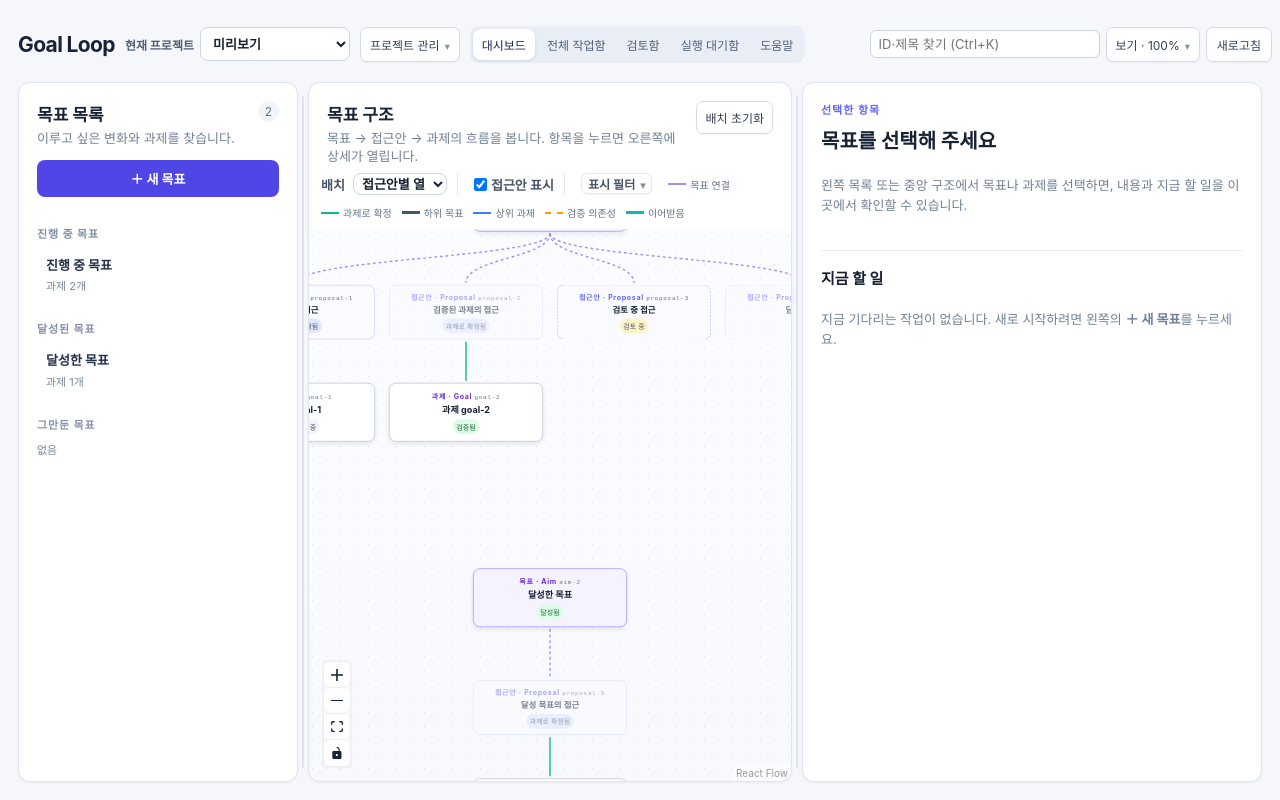
graph controls in the workspace › hides finished items with a display filter and can show them all again
Click the heading "표시 필터" at (617, 184), box [581,173,652,194]
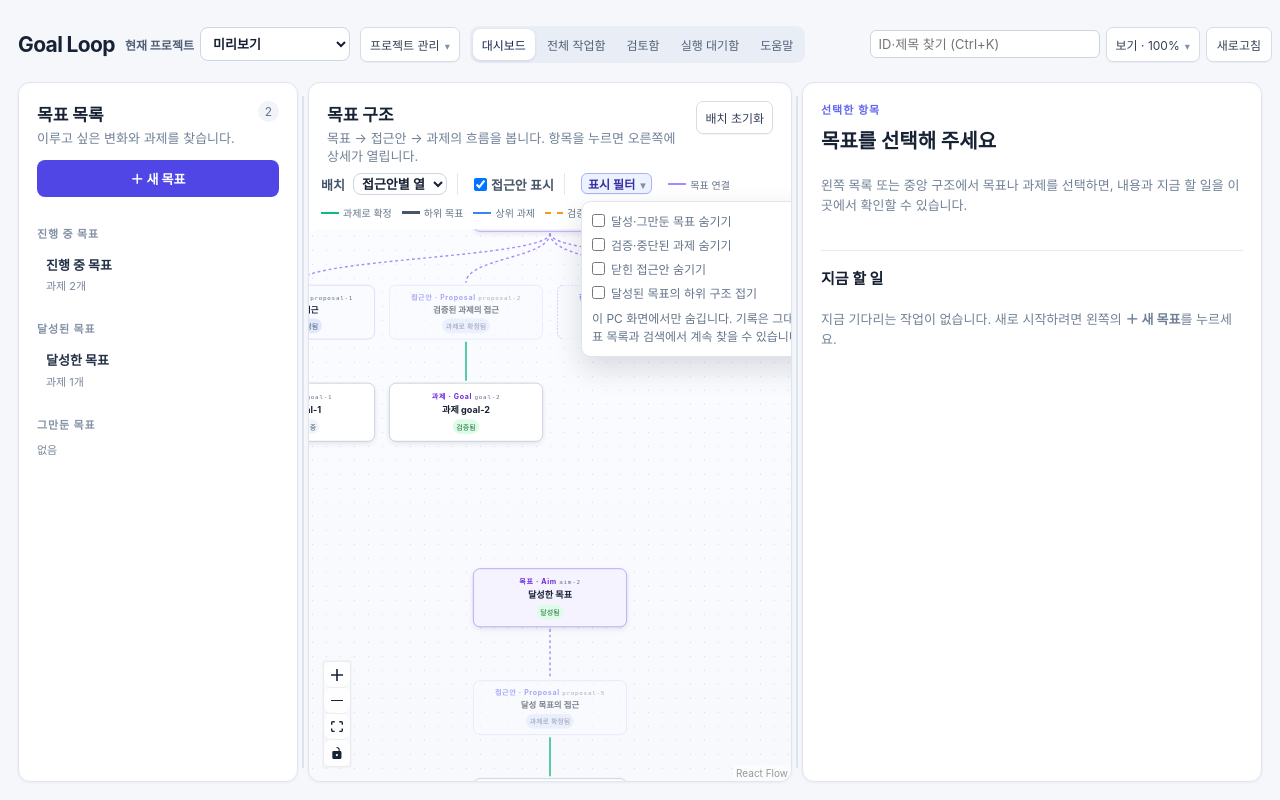
Click the checkbox labelled "달성·그만둔 목표 숨기기" at (598, 221), box [592,214,605,227]
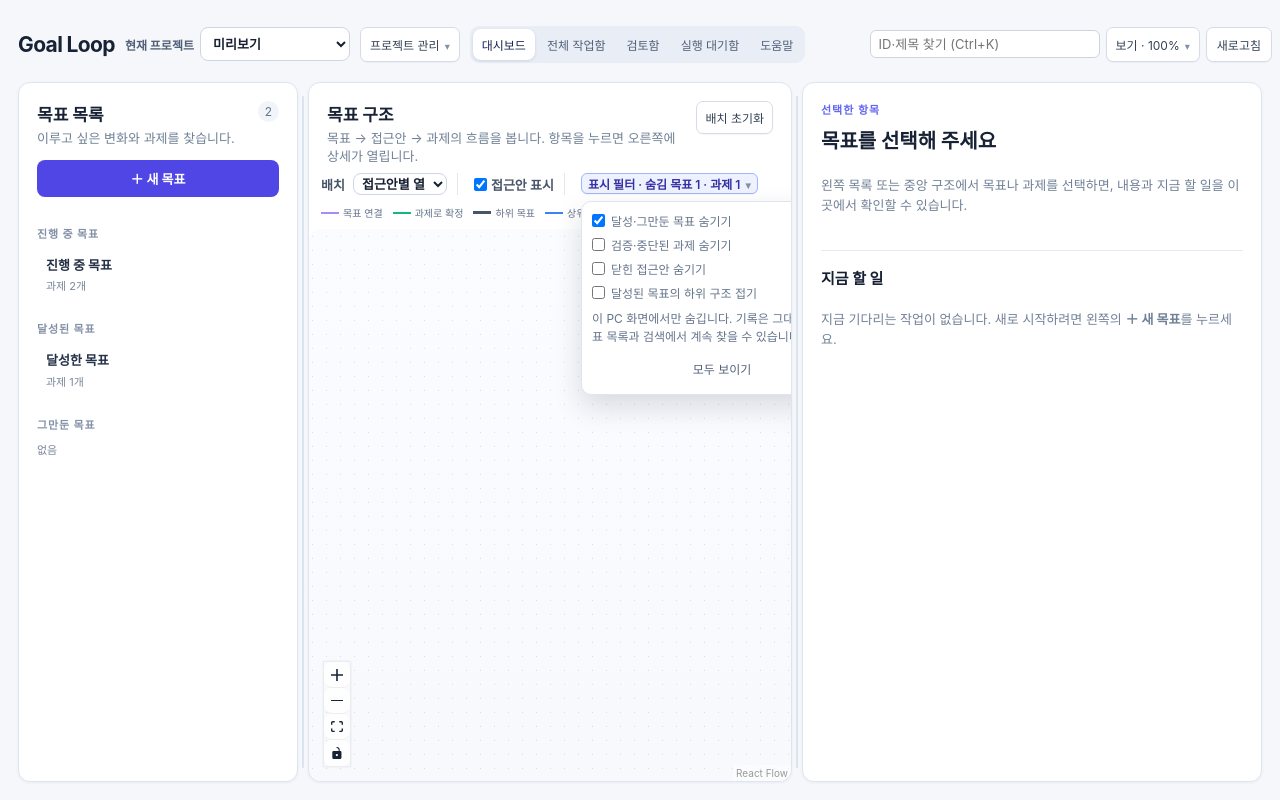
Click the checkbox labelled "검증·중단된 과제 숨기기" at (598, 245), box [592,238,605,251]
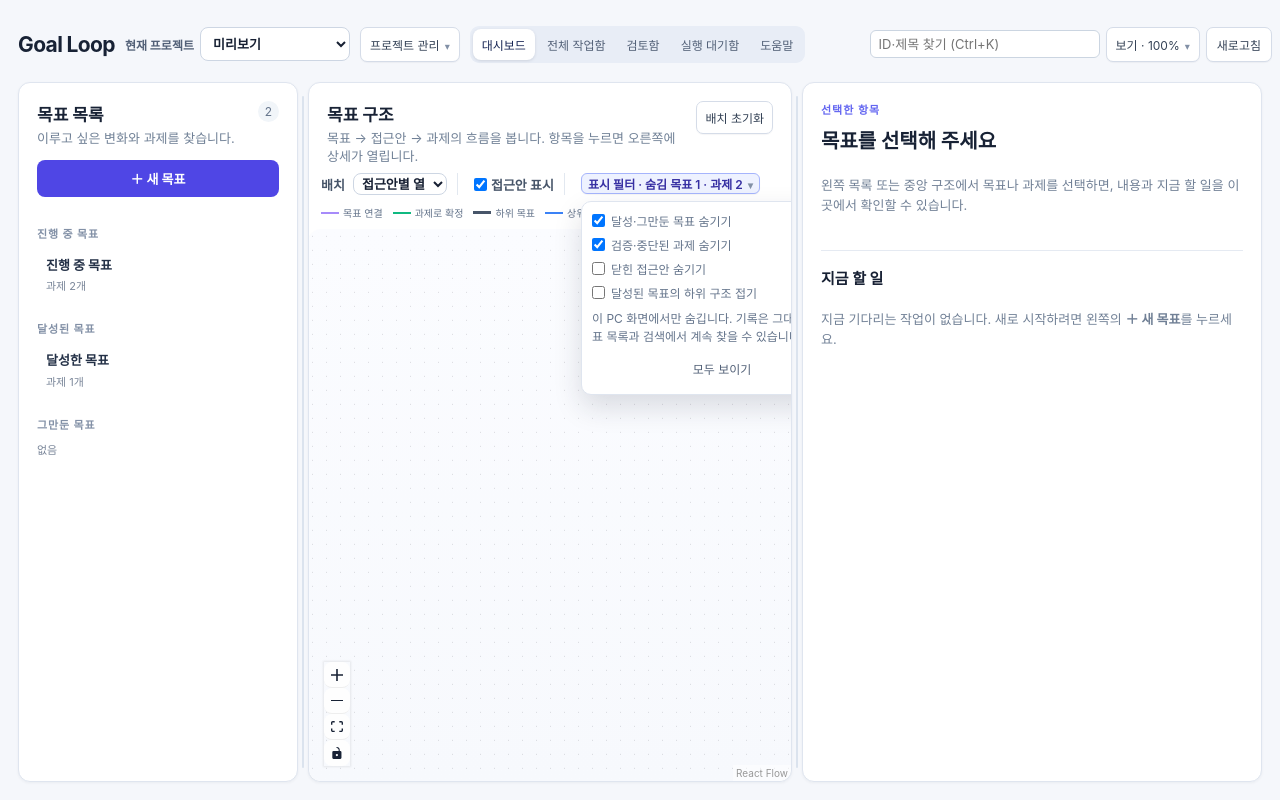
Expected: the text "goal-2" is not shown
Expected: the heading "표시 필터 · 숨김 목표 1 · 과제 2" is shown, [581,173,760,194]
Click the button "모두 보이기" at (722, 369), box [592,353,852,384]
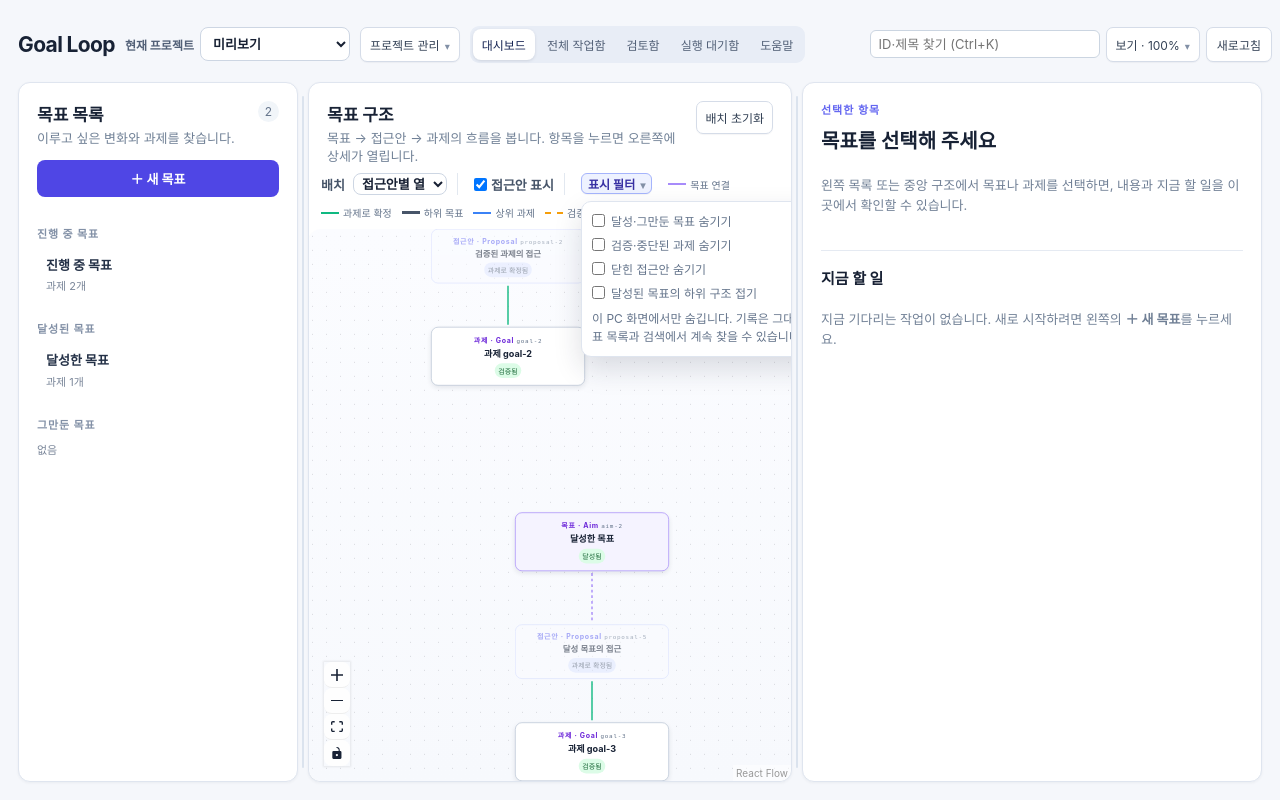
Expected: the text "goal-3" is shown, [600,733,626,740]
